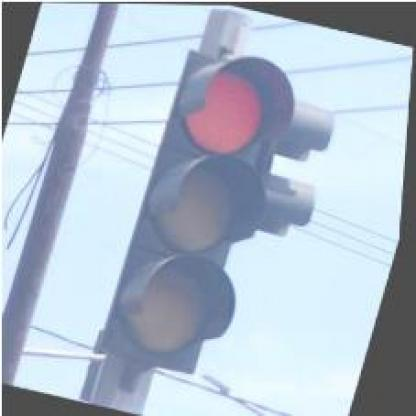red: (98, 38, 305, 376)
